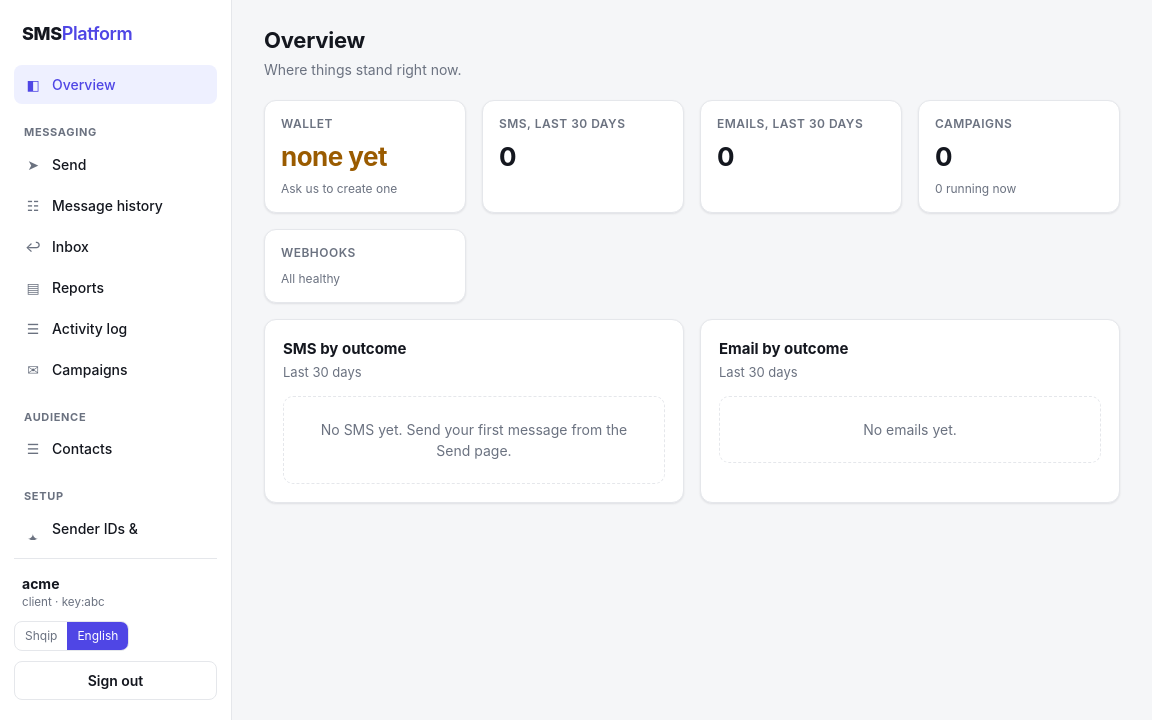
Test case: login › restores a session from sessionStorage and can sign out
This screenshot has width=1152, height=720.
Check: the navigation bar is shown, box [14, 65, 217, 540]
Click the button "Sign out" at {"x": 116, "y": 680}, box [14, 661, 217, 700]
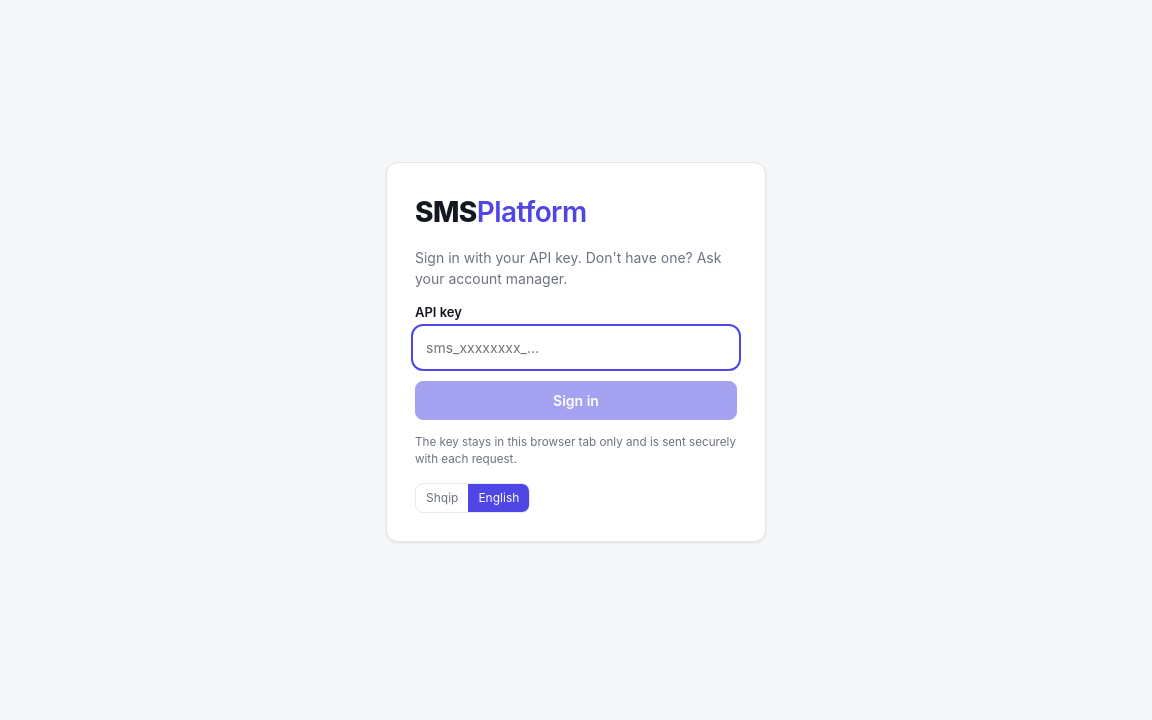
Check: the password field labelled "API key" is shown, box [415, 328, 737, 367]
